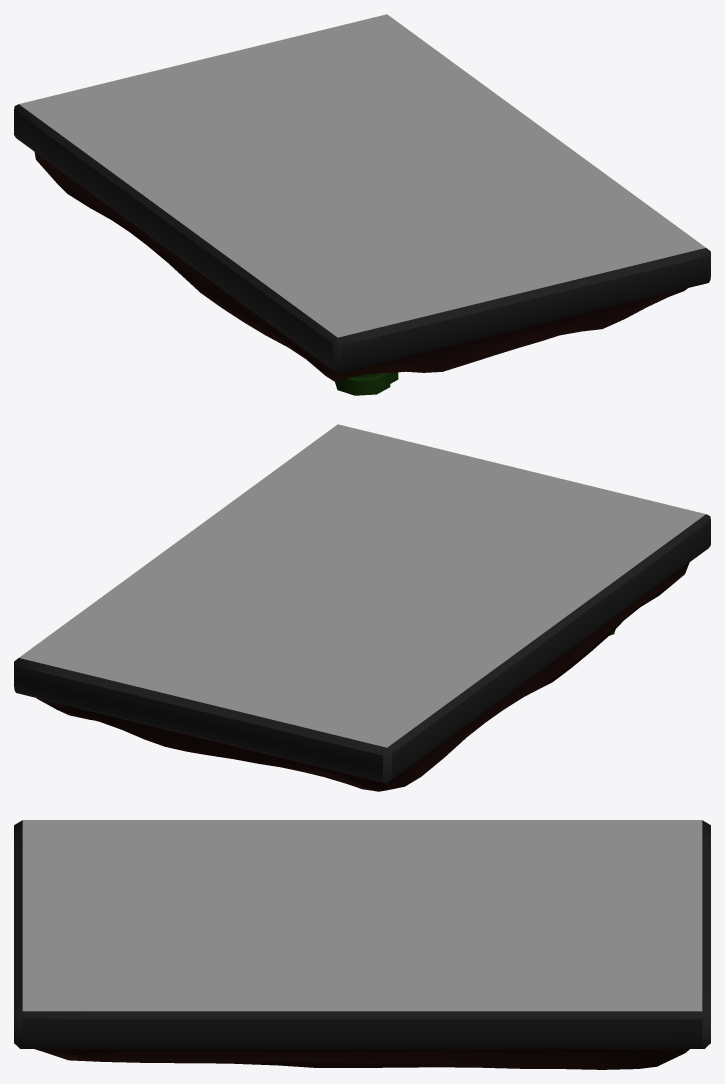
File: MET_PlatformeTuyau_PetitMoyen_Pierre_02_LOD0.fbx
3 renders of one model, top to bottom at view 1: azimuth 30°, elevation 25°; view 2: azimuth 150°, elevation 25°; view 3: azimuth 270°, elevation 25°, orthographic. The views are drawn at different scales.
Parts seen in each view (by area): view 1: MET_PlatformeTuyau_PetitMoyen_Pierre_02_LOD0; view 2: MET_PlatformeTuyau_PetitMoyen_Pierre_02_LOD0; view 3: MET_PlatformeTuyau_PetitMoyen_Pierre_02_LOD0.
Boxes of the visible parts, x1=… form: MET_PlatformeTuyau_PetitMoyen_Pierre_02_LOD0: x1=14, y1=14, x2=710, y2=395; MET_PlatformeTuyau_PetitMoyen_Pierre_02_LOD0: x1=14, y1=424, x2=710, y2=791; MET_PlatformeTuyau_PetitMoyen_Pierre_02_LOD0: x1=14, y1=820, x2=710, y2=1069.
Bounding box in the file's own units: 400 × 133 × 600.
